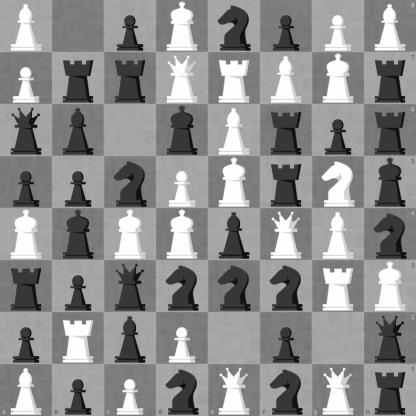B: (0, 364, 52, 416), (364, 0, 416, 52), (1, 1, 52, 52), (209, 105, 260, 156), (261, 53, 312, 104), (313, 209, 364, 260)
K: (364, 260, 416, 312), (1, 209, 52, 260), (105, 209, 156, 260), (157, 1, 208, 52), (157, 209, 208, 260), (209, 157, 260, 208), (313, 53, 364, 104)
N: (313, 157, 364, 208)
P: (104, 364, 156, 416), (1, 53, 52, 104), (157, 157, 208, 208), (157, 313, 208, 364), (313, 1, 364, 52)
Q: (312, 364, 364, 416), (209, 364, 260, 416), (157, 53, 208, 104), (261, 209, 312, 260)
R: (53, 313, 104, 364), (209, 53, 260, 104), (313, 261, 364, 312)
b: (53, 105, 104, 156), (105, 313, 156, 364), (209, 209, 260, 260)
board: (0, 0, 415, 415)
k: (364, 156, 416, 209), (53, 209, 104, 260), (157, 105, 208, 156)
n: (156, 364, 209, 416), (260, 364, 312, 416), (364, 209, 416, 260), (105, 157, 156, 208), (157, 261, 208, 312), (209, 1, 260, 52), (209, 261, 260, 312), (261, 261, 312, 312)
p: (52, 364, 104, 416), (1, 157, 52, 208), (1, 313, 52, 364), (53, 157, 104, 208), (53, 261, 104, 312), (105, 1, 156, 52), (261, 1, 312, 52), (261, 313, 312, 364), (313, 105, 364, 156)
q: (364, 312, 416, 364), (1, 105, 52, 156), (105, 261, 156, 312)
r: (364, 52, 416, 104), (364, 104, 416, 156), (364, 364, 416, 416), (1, 261, 52, 312), (53, 53, 104, 104), (105, 53, 156, 104), (261, 105, 312, 156), (261, 157, 312, 208)
